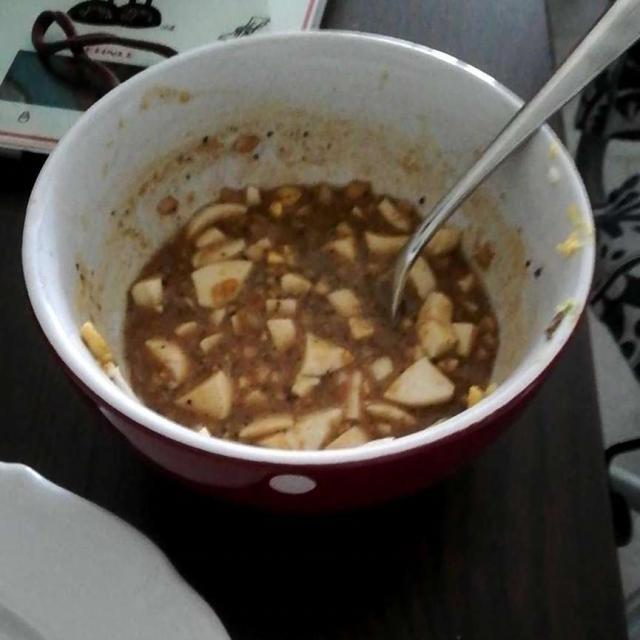egg: (148, 198, 454, 450)
salad: (121, 178, 492, 430)
